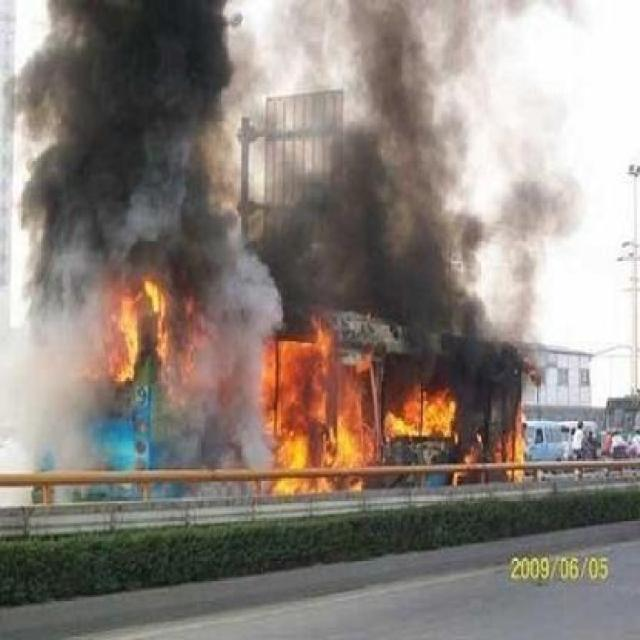Fire: (260, 331, 528, 491), (105, 276, 178, 390)
Smoke: (2, 4, 546, 294), (181, 300, 258, 468), (262, 298, 540, 336)
